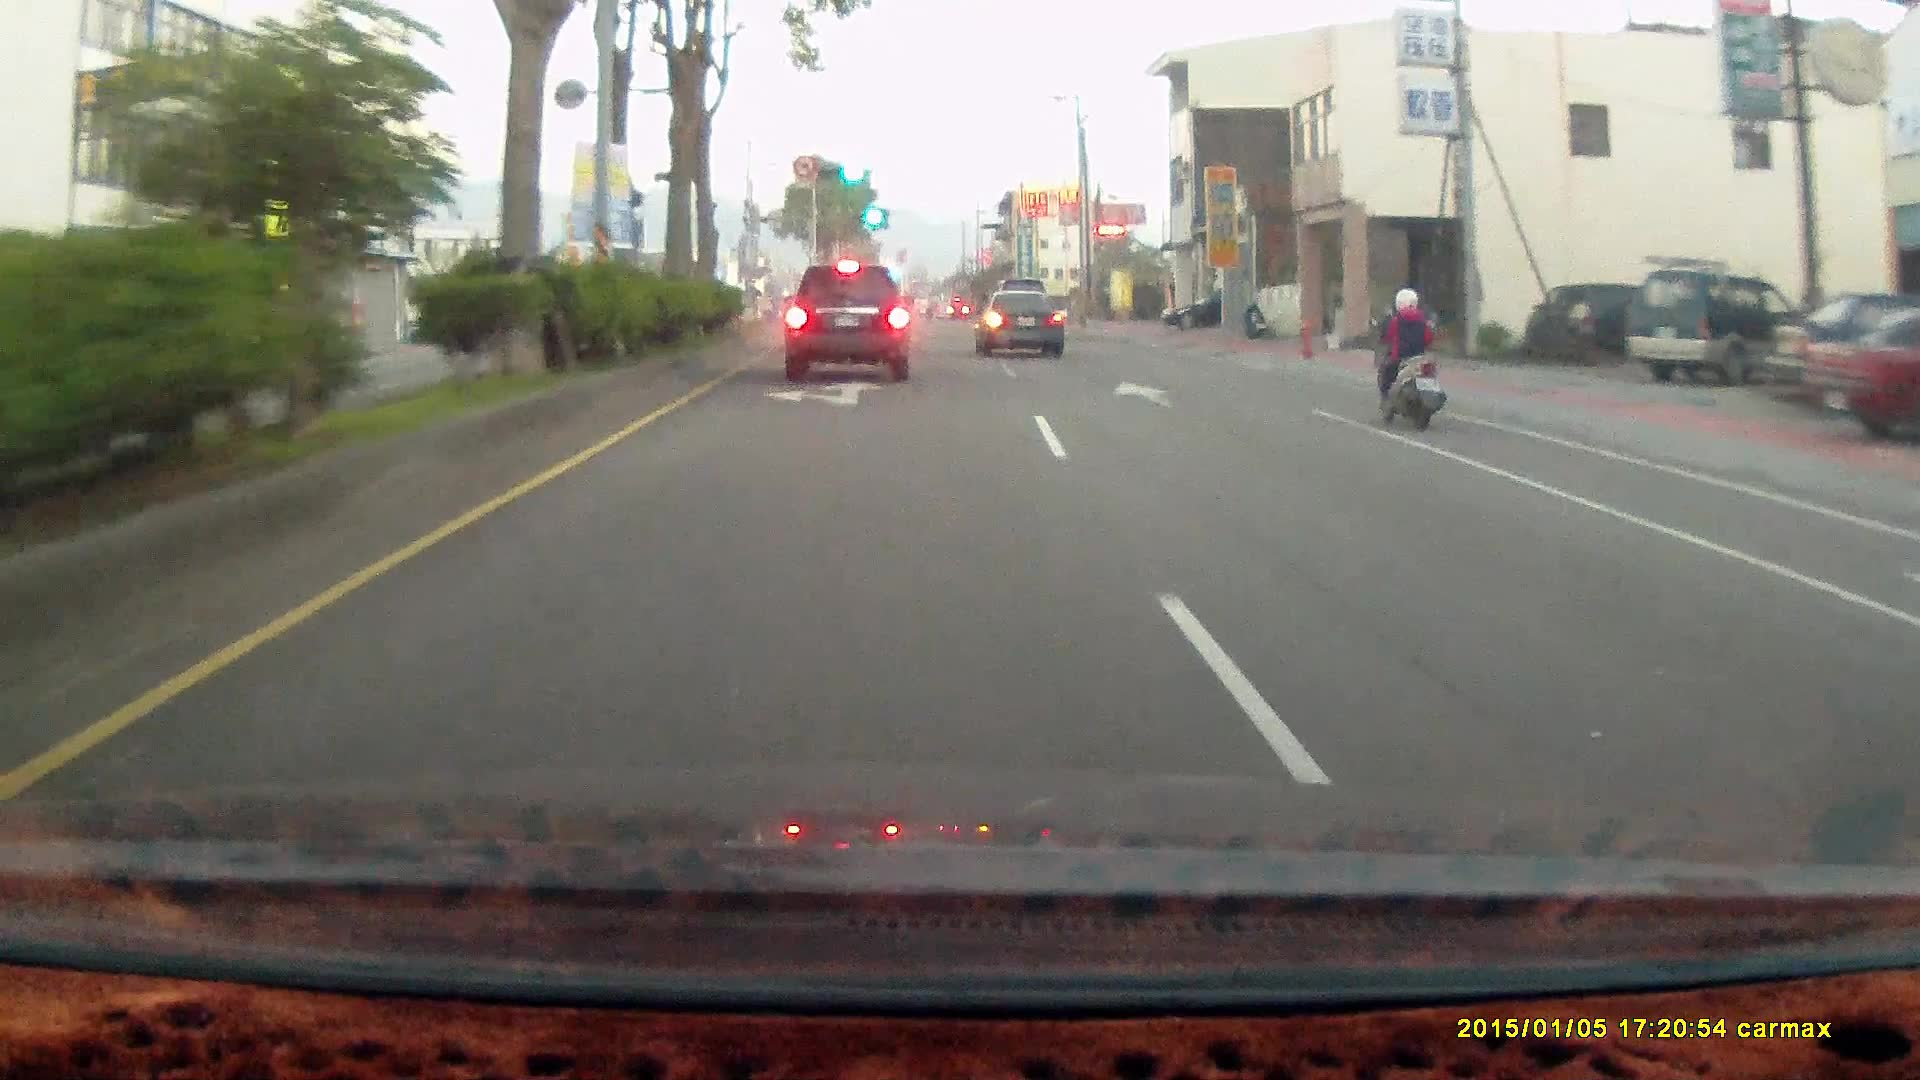rider: (1356, 273, 1462, 443), (1367, 286, 1445, 430)
vehicle: (1622, 269, 1815, 386), (1627, 271, 1808, 390), (1795, 297, 1920, 448), (1803, 302, 1920, 447), (787, 253, 916, 375), (781, 262, 908, 380), (1525, 280, 1645, 360), (974, 288, 1069, 359), (976, 287, 1063, 353), (1161, 290, 1260, 330), (1160, 289, 1224, 335)
